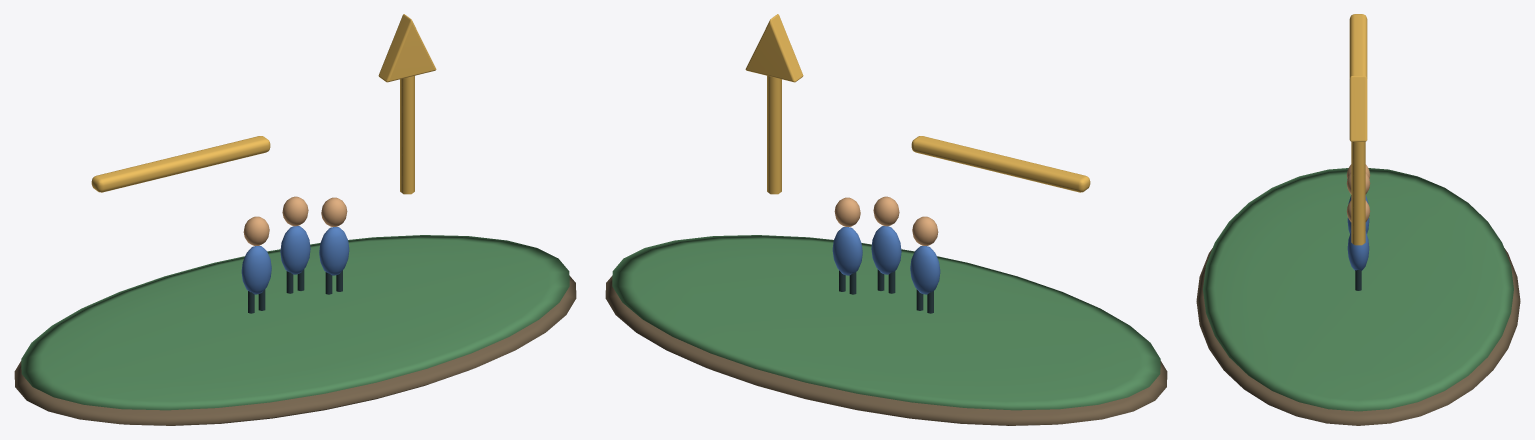
File: complete-first-rise-together.glb
The picture shows the model from 3 angles, left to right: view 1: azimuth 30°, elevation 25°; view 2: azimuth 150°, elevation 25°; view 3: azimuth 270°, elevation 25°; orthographic projection. The views are drawn at different scales.
Visible parts, largest first — view 1: complete-first-rise-together_surface_01, complete-first-rise-together_surface_00, complete-first-rise-together_surface_02, complete-first-rise-together_surface_04, complete-first-rise-together_surface_03, complete-first-rise-together_surface_05; view 2: complete-first-rise-together_surface_01, complete-first-rise-together_surface_00, complete-first-rise-together_surface_02, complete-first-rise-together_surface_04, complete-first-rise-together_surface_03, complete-first-rise-together_surface_05; view 3: complete-first-rise-together_surface_01, complete-first-rise-together_surface_00, complete-first-rise-together_surface_02, complete-first-rise-together_surface_04, complete-first-rise-together_surface_03.
Part boxes in pixels (x1,y1,x2,y2): complete-first-rise-together_surface_01: [21, 235, 569, 410]; complete-first-rise-together_surface_00: [14, 275, 576, 425]; complete-first-rise-together_surface_02: [91, 14, 436, 194]; complete-first-rise-together_surface_04: [241, 226, 349, 294]; complete-first-rise-together_surface_03: [243, 196, 347, 245]; complete-first-rise-together_surface_05: [248, 269, 342, 313]; complete-first-rise-together_surface_01: [612, 235, 1160, 410]; complete-first-rise-together_surface_00: [605, 275, 1167, 425]; complete-first-rise-together_surface_02: [745, 14, 1090, 194]; complete-first-rise-together_surface_04: [832, 226, 940, 294]; complete-first-rise-together_surface_03: [834, 196, 938, 245]; complete-first-rise-together_surface_05: [839, 269, 933, 313]; complete-first-rise-together_surface_01: [1203, 168, 1513, 411]; complete-first-rise-together_surface_00: [1196, 248, 1520, 425]; complete-first-rise-together_surface_02: [1349, 14, 1367, 245]; complete-first-rise-together_surface_04: [1347, 195, 1369, 270]; complete-first-rise-together_surface_03: [1346, 164, 1370, 221].
Size of the model in its own units: 4.56 by 2.49 by 2.5.
